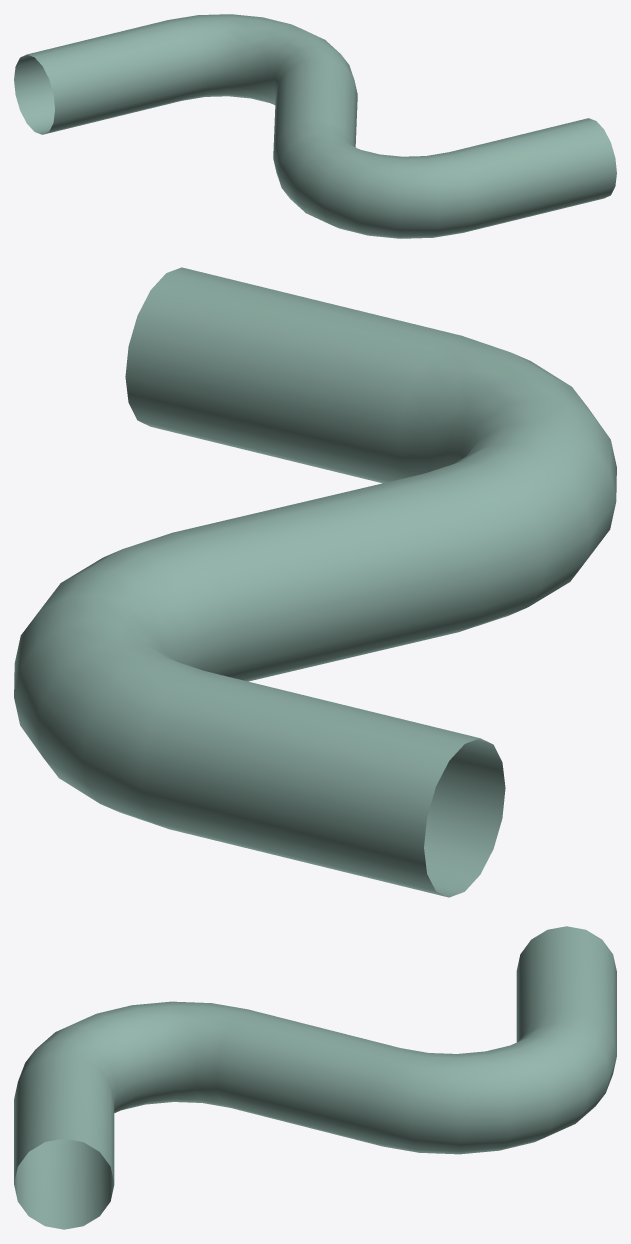
Rendered from PipeLarge_BentSpecial_01.fbx.
3 views of the same model, one above another, from view 1: azimuth 30°, elevation 25°; view 2: azimuth 150°, elevation 25°; view 3: azimuth 270°, elevation 25° (orthographic). The views are drawn at different scales.
Parts seen in each view (by area): view 1: PipeLarge_BentSpecial_01.001; view 2: PipeLarge_BentSpecial_01.001; view 3: PipeLarge_BentSpecial_01.001.
Part boxes in pixels (bbox=[...]): PipeLarge_BentSpecial_01.001: bbox=[14, 14, 616, 238]; PipeLarge_BentSpecial_01.001: bbox=[14, 267, 616, 897]; PipeLarge_BentSpecial_01.001: bbox=[14, 926, 616, 1229].
Bounding box in the file's own units: 1 × 0.2 × 1.2.
